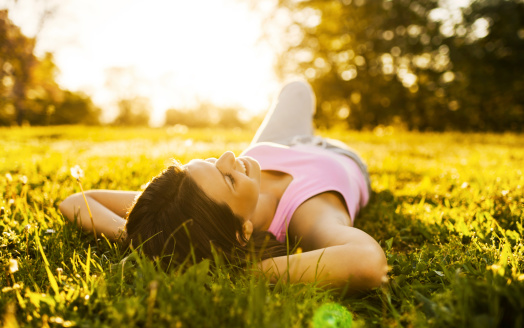deitado: (184, 65, 407, 317)
